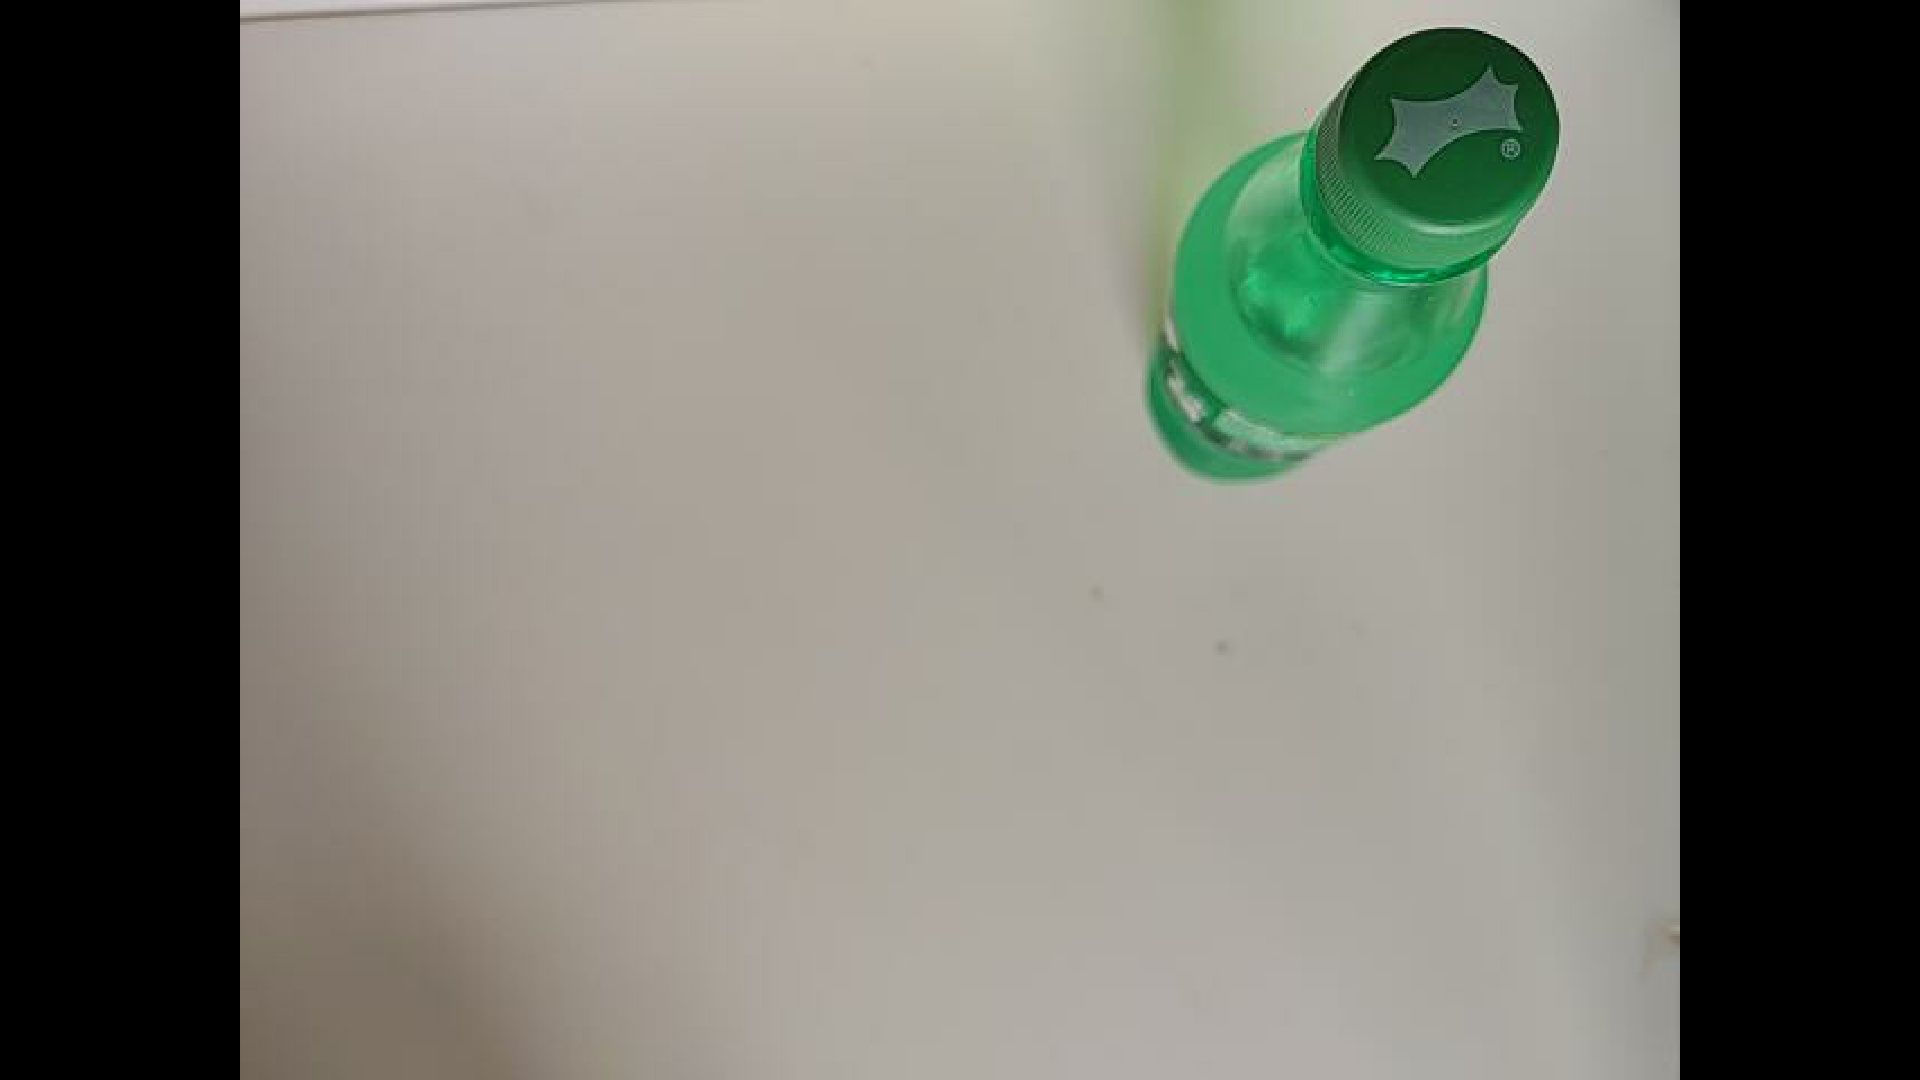sprite: (1141, 26, 1560, 484)
